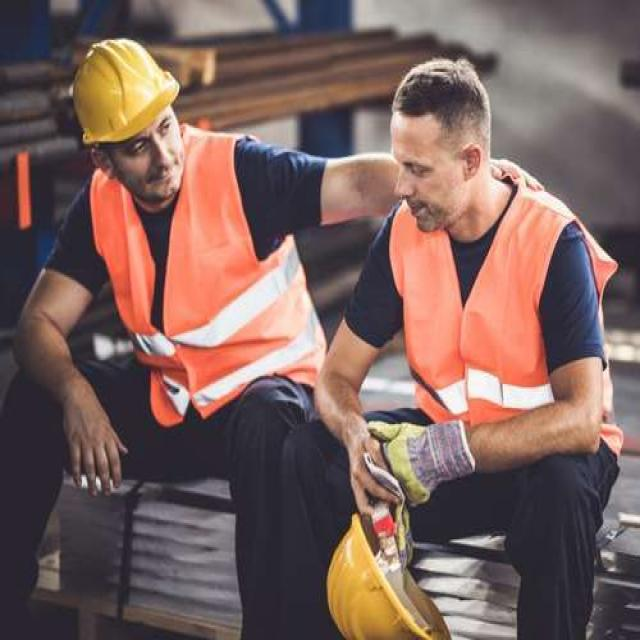Gloves: (368, 409, 478, 578)
Hard Hat: (314, 512, 469, 640), (71, 32, 190, 152)
Reflective Vest: (54, 118, 330, 413), (368, 178, 634, 460)
